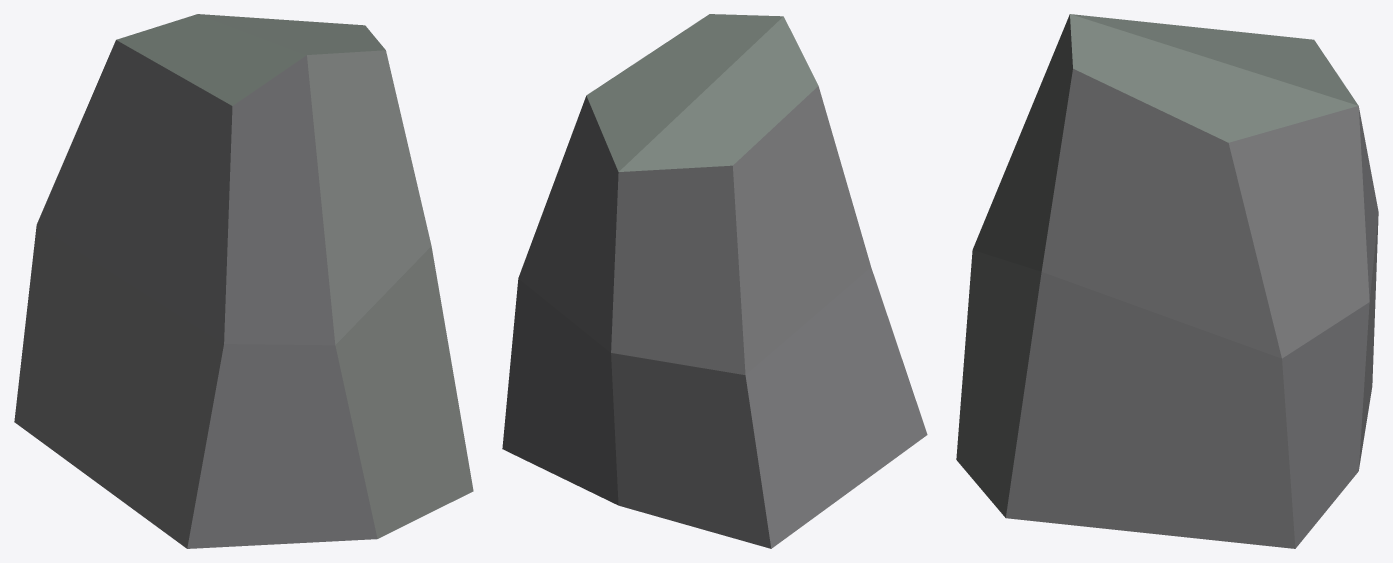
File: Rock01.fbx
3 renders of one model, left to right at view 1: azimuth 30°, elevation 25°; view 2: azimuth 150°, elevation 25°; view 3: azimuth 270°, elevation 25°, orthographic. The views are drawn at different scales.
Parts seen in each view (by area): view 1: Rock01; view 2: Rock01; view 3: Rock01.
Boxes of the visible parts, x1=… form: Rock01: x1=14, y1=14, x2=473, y2=548; Rock01: x1=502, y1=14, x2=927, y2=548; Rock01: x1=956, y1=14, x2=1378, y2=548.
Size of the model in its own units: 191 by 241 by 209.
